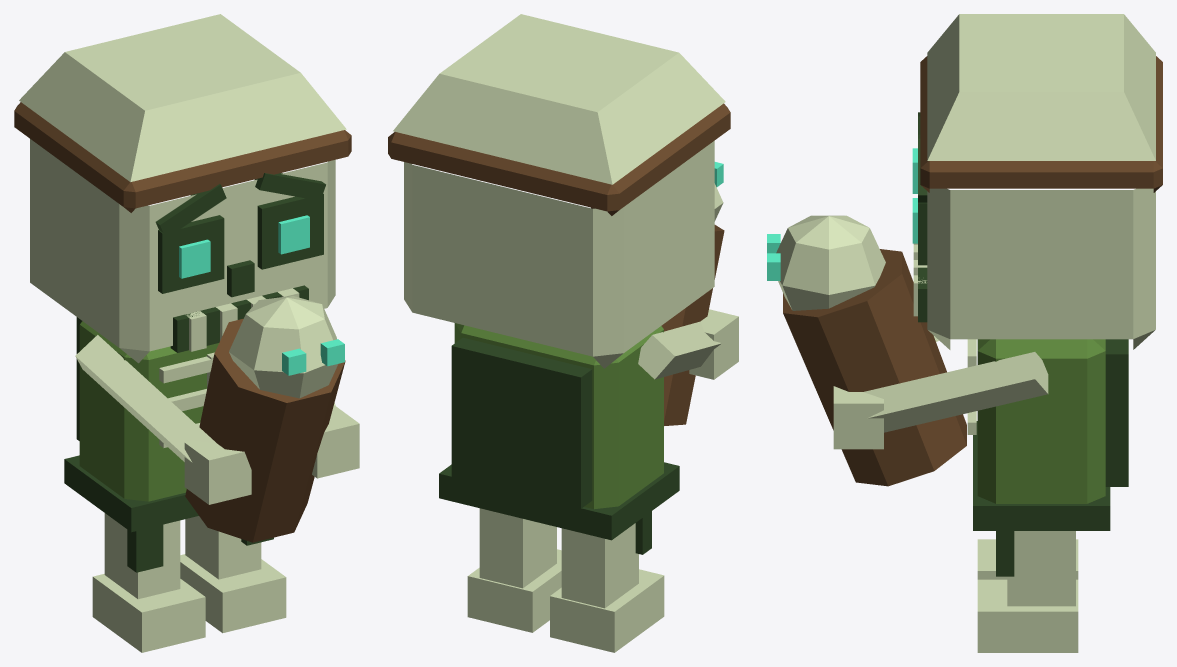
Rendered from mortar_r6.glb.
3 renders of one model, left to right at view 1: azimuth 30°, elevation 25°; view 2: azimuth 150°, elevation 25°; view 3: azimuth 270°, elevation 25°, orthographic. The views are drawn at different scales.
Parts seen in each view (by area): view 1: mortar_r6_mesh; view 2: mortar_r6_mesh; view 3: mortar_r6_mesh.
Part boxes in pixels (x1=…): mortar_r6_mesh: x1=14, y1=14, x2=359, y2=652; mortar_r6_mesh: x1=388, y1=14, x2=738, y2=652; mortar_r6_mesh: x1=767, y1=14, x2=1162, y2=652.
Size of the model in its own units: 0.7375 by 1.7 by 1.08.
Materials: 1 (1 with a texture image).
